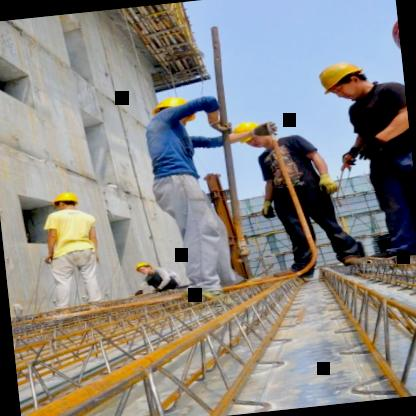helmet: (312, 57, 376, 100), (146, 94, 196, 128), (230, 118, 276, 150), (47, 190, 81, 215), (130, 259, 156, 274)
